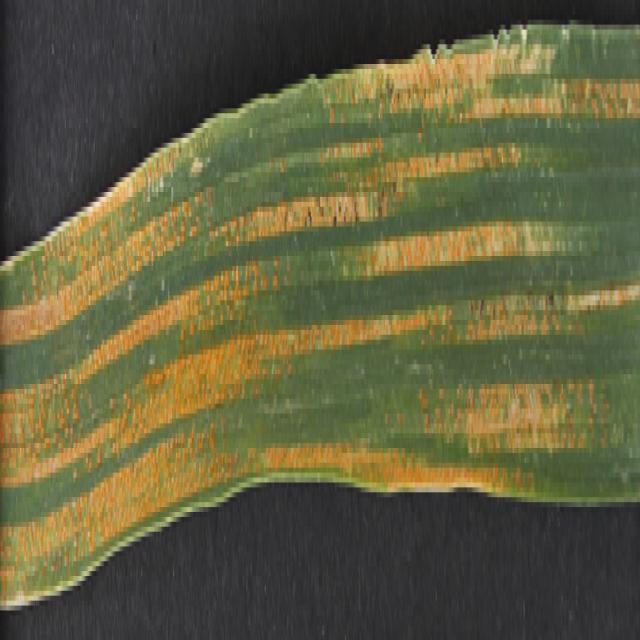leaf rust: (0, 19, 638, 606)
